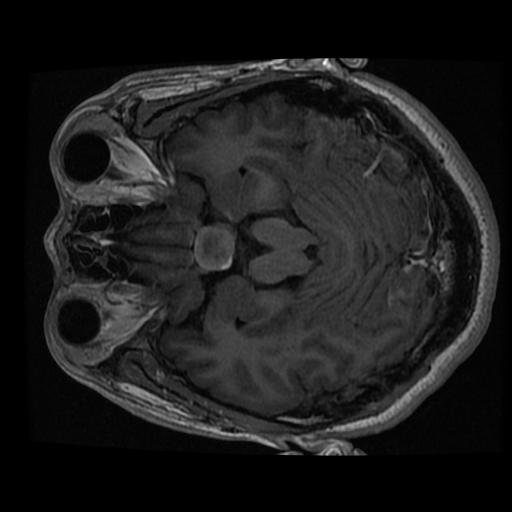pituitary tumour: (194, 222, 237, 272)
